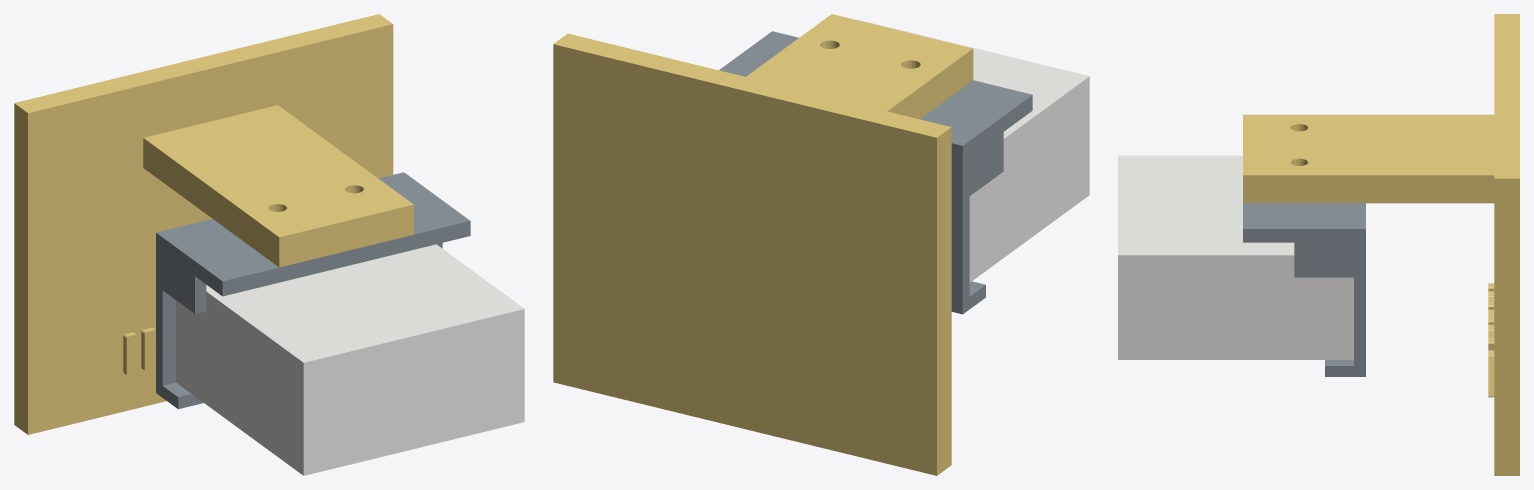
File: montagem-ESTUDO.glb
3 renders of one model, left to right at view 1: azimuth 30°, elevation 25°; view 2: azimuth 150°, elevation 25°; view 3: azimuth 270°, elevation 25°, orthographic. The views are drawn at different scales.
Visible parts, largest first — view 1: base, modulo, berco; view 2: base, modulo, berco; view 3: modulo, base, berco.
Boxes of the visible parts, box(x1,y1,x2,y2) form: base: box(14, 14, 413, 434); modulo: box(176, 244, 524, 475); berco: box(156, 172, 470, 409); base: box(553, 14, 973, 475); modulo: box(857, 19, 1089, 282); berco: box(719, 31, 1032, 314); modulo: box(1118, 155, 1353, 359); base: box(1243, 14, 1519, 475); berco: box(1243, 203, 1365, 376).
Size of the model in its own units: 76 by 64 by 78.4.
